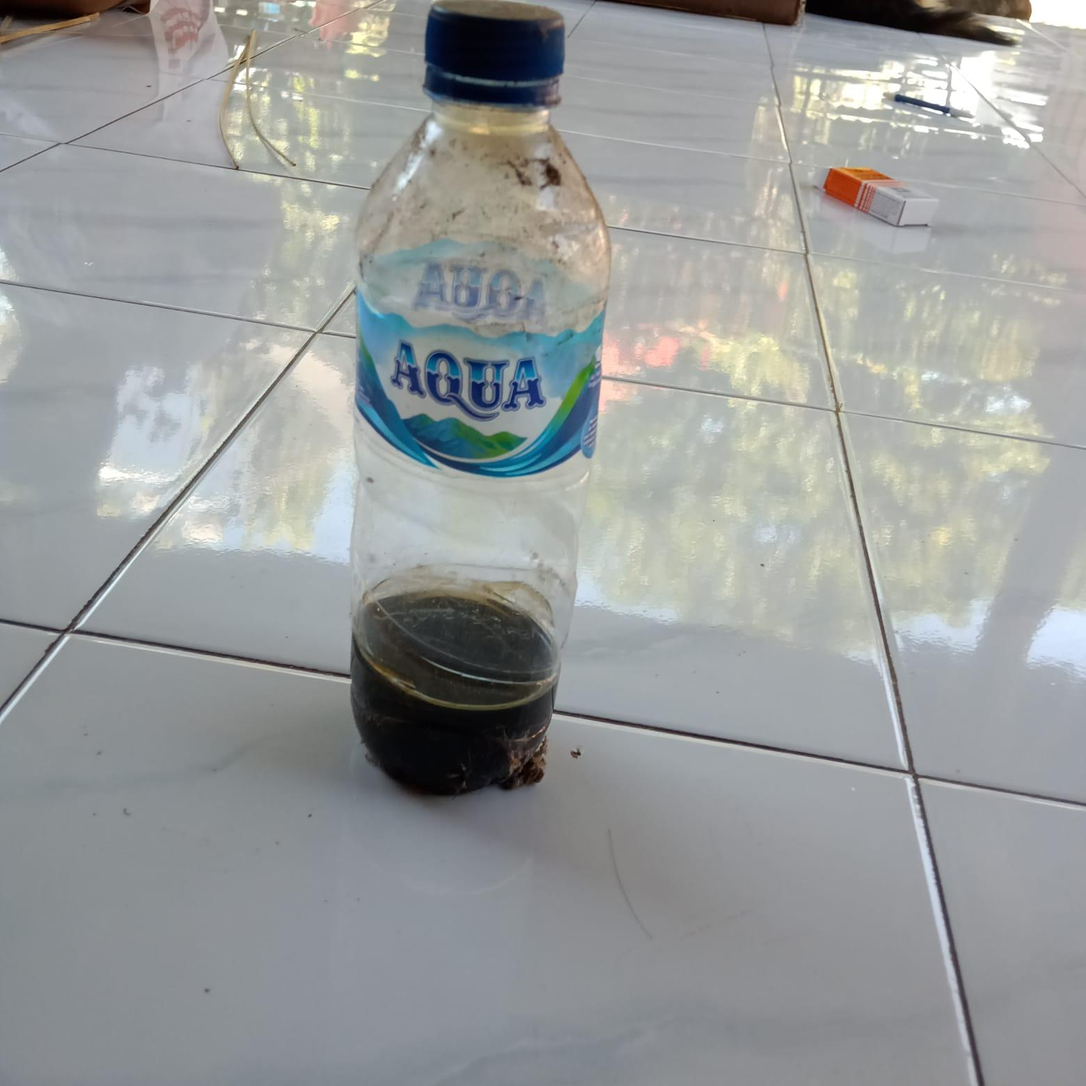Plastik: (350, 0, 609, 796)
